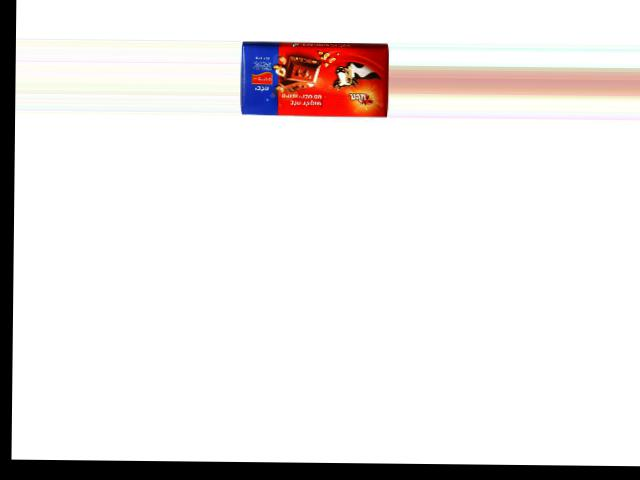chocolate: (242, 35, 388, 115)
